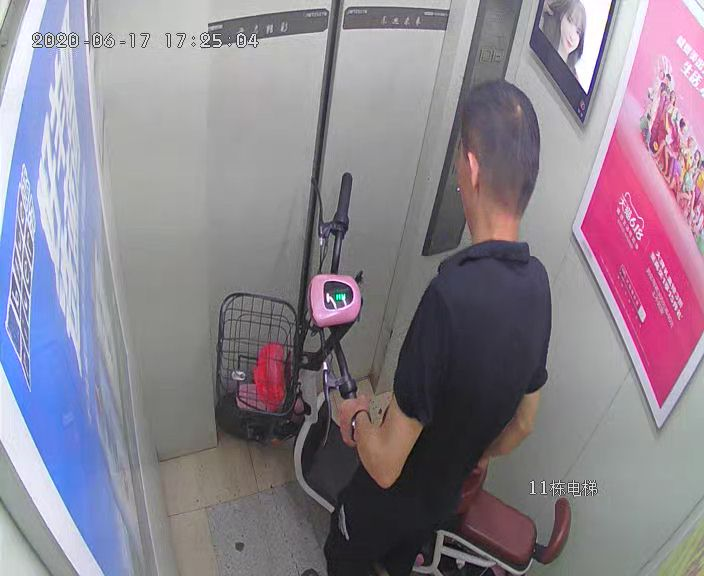Electric-bicycle: (222, 172, 570, 546)
